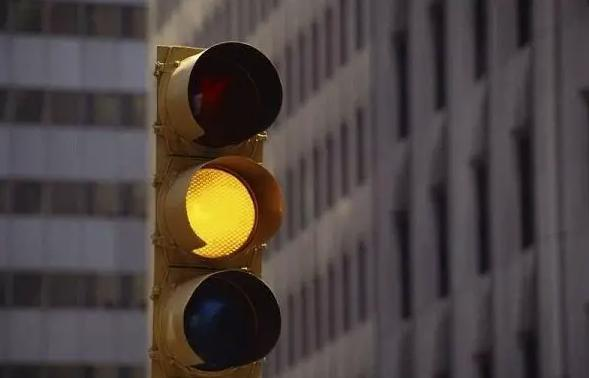yellow_light: (149, 42, 282, 378)
